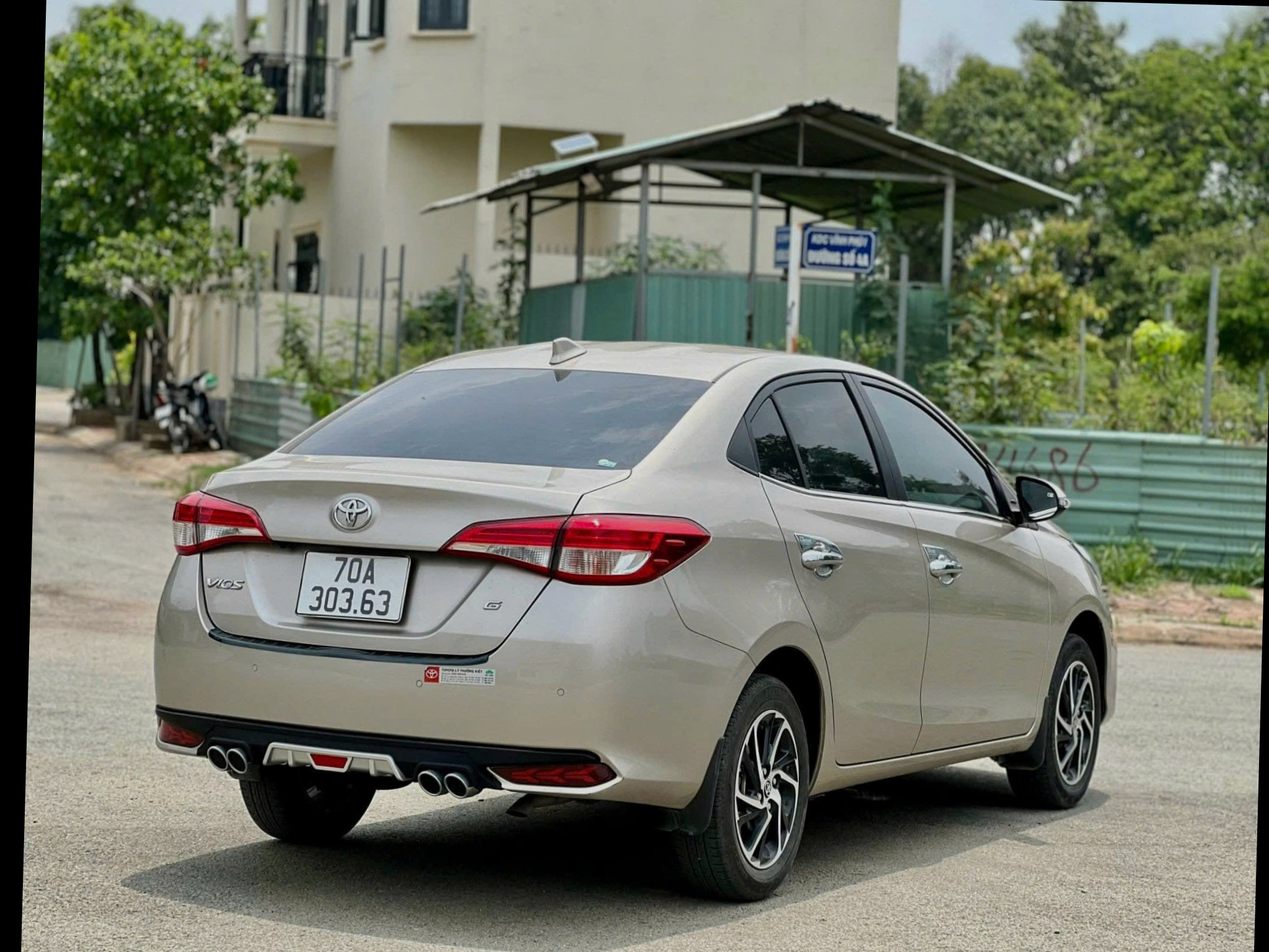Bien-so: (285, 555, 405, 634)
